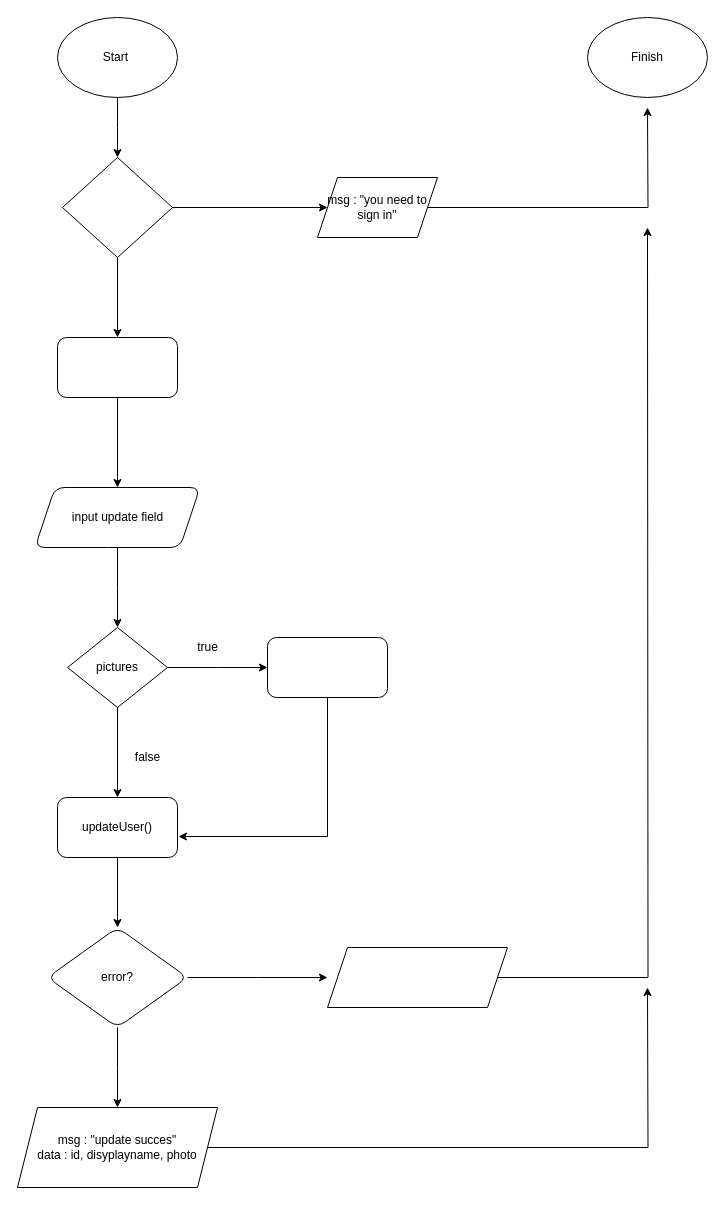
This 725x1205 diagram has some shape labels left out. Here are the shapes that lost their labels. From the top down, the centre of each, then its label:
[117,207]: validasi token
[117,367]: get id from payload
[327,667]: save image with multer
[417,977]: msg : "cannot update user" error
